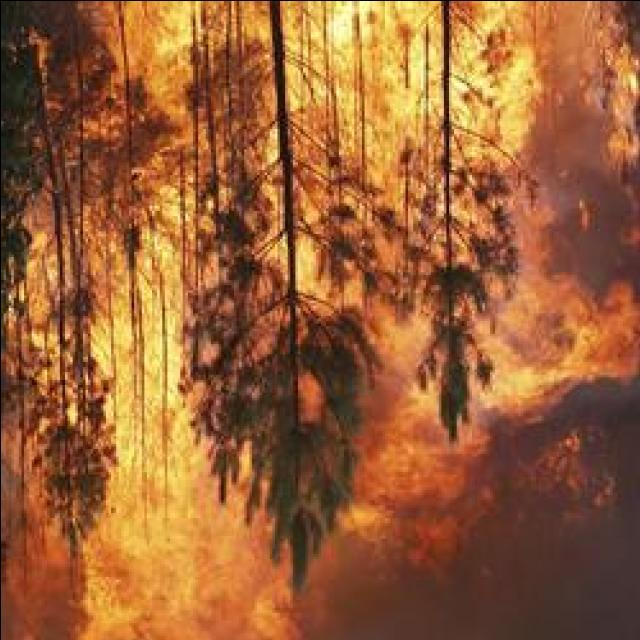fire: (438, 5, 538, 162), (523, 300, 637, 373), (131, 326, 183, 410), (324, 2, 356, 42)
